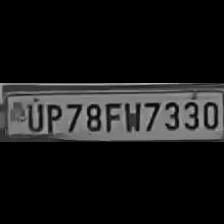0: (200, 97, 218, 128)
3: (160, 96, 180, 130), (182, 96, 198, 130)
7: (62, 98, 82, 132), (141, 97, 159, 130)
8: (83, 99, 103, 130)
F: (102, 98, 122, 132)
P: (42, 100, 62, 132)
U: (22, 100, 44, 130)
W: (122, 98, 140, 132)
